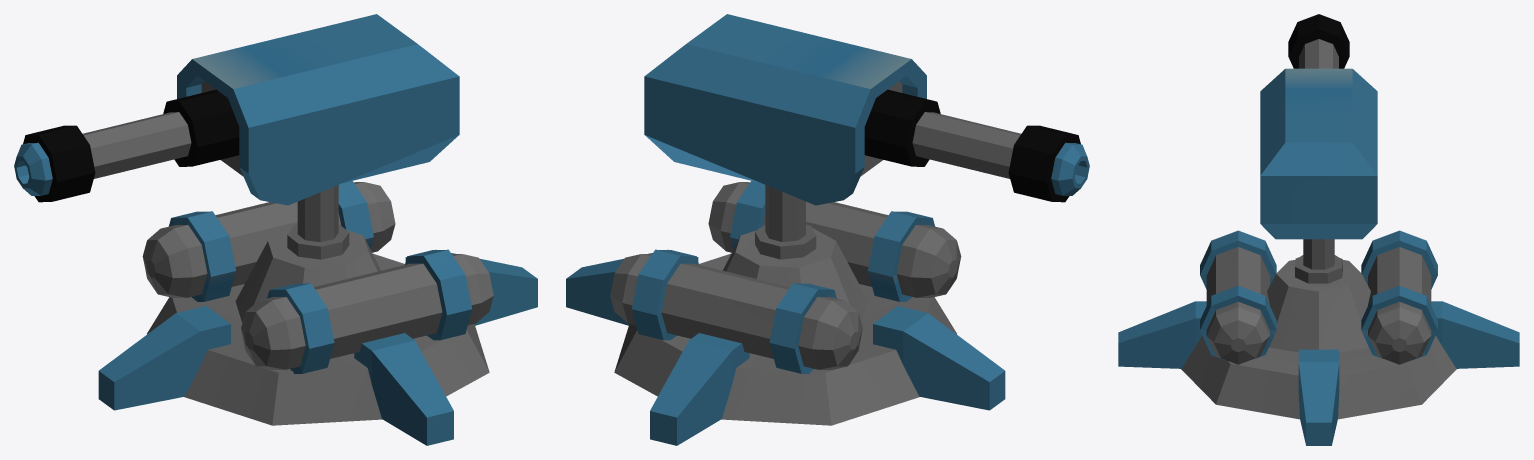
Rendered from turret.obj.
The picture shows the model from 3 angles, left to right: view 1: azimuth 30°, elevation 25°; view 2: azimuth 150°, elevation 25°; view 3: azimuth 270°, elevation 25°; orthographic projection. The views are drawn at different scales.
Visible parts, largest first — view 1: Circle.006, Circle.005; view 2: Circle.006, Circle.005; view 3: Circle.006, Circle.005.
Part boxes in pixels (bbox=[...]): Circle.006: bbox=[98, 181, 537, 445]; Circle.005: bbox=[14, 14, 459, 205]; Circle.006: bbox=[566, 181, 1005, 445]; Circle.005: bbox=[644, 14, 1089, 205]; Circle.006: bbox=[1118, 230, 1519, 445]; Circle.005: bbox=[1260, 14, 1377, 239].
Bounding box in the file's own units: 3.3 × 1.89 × 2.76.
